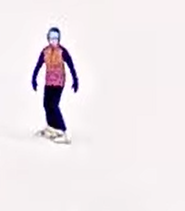snowboarder: (29, 26, 79, 145)
